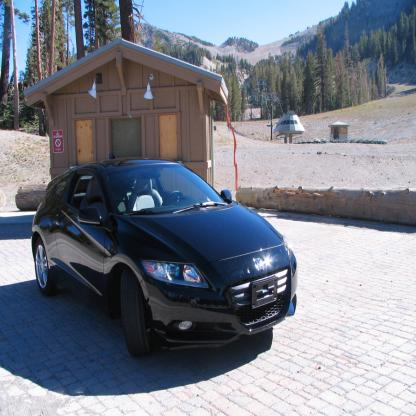Car: (32, 158, 299, 358)
